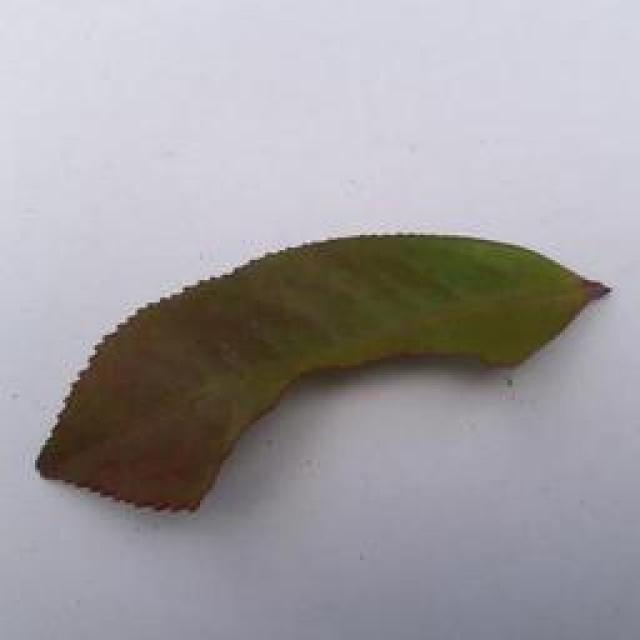Red Leaf Spot: (34, 226, 626, 508)
